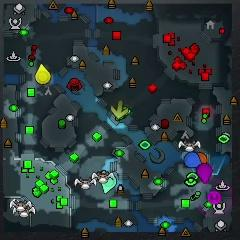Other: (207, 191, 222, 205)
p1: (185, 152, 201, 167)
p2: (100, 173, 116, 193)
p3: (197, 163, 213, 183)
p4: (35, 64, 50, 84)
p5: (196, 151, 208, 164)
x2: (111, 100, 127, 118)
